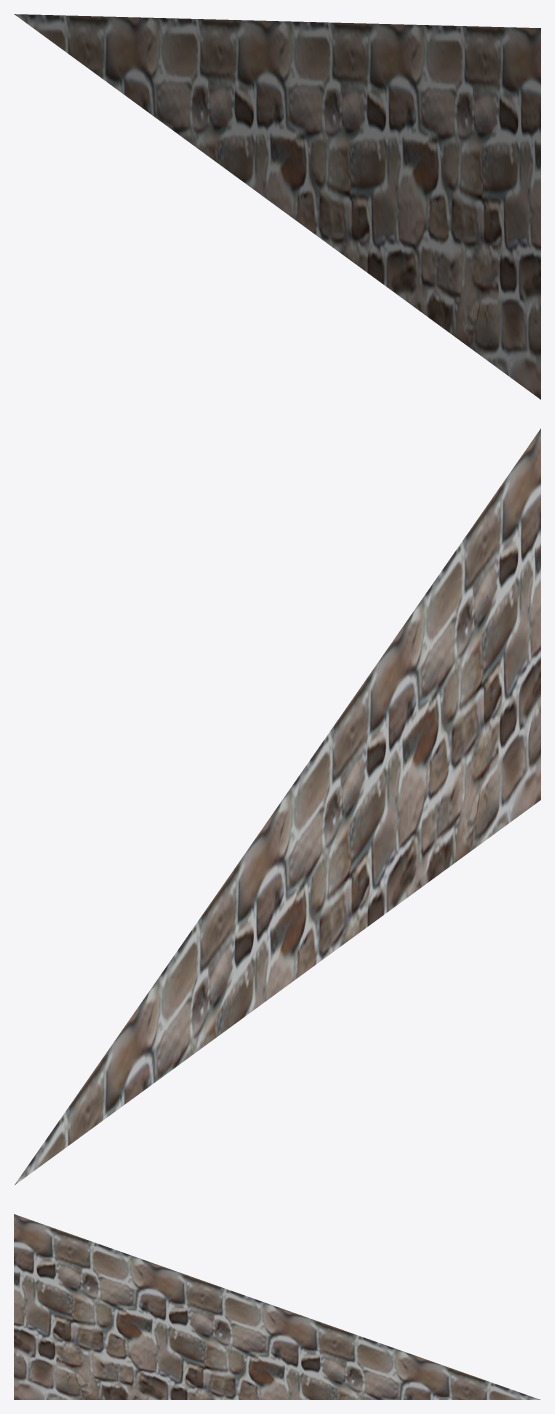
The model's file is Straße_Seitenteil [Stein]_2000.glb.
3 views of the same model, one above another, from view 1: azimuth 30°, elevation 25°; view 2: azimuth 150°, elevation 25°; view 3: azimuth 270°, elevation 25° (orthographic). The views are drawn at different scales.
Visible parts, largest first — view 1: pPlaneShape173; view 2: pPlaneShape173; view 3: pPlaneShape173.
Part boxes in pixels (x1,y1,x2,y2): pPlaneShape173: (14,14,540,399); pPlaneShape173: (15,428,540,1184); pPlaneShape173: (14,1214,540,1399).
Size of the model in its own units: 0 by 0.3891 by 1.
1 material, 1 textured.
